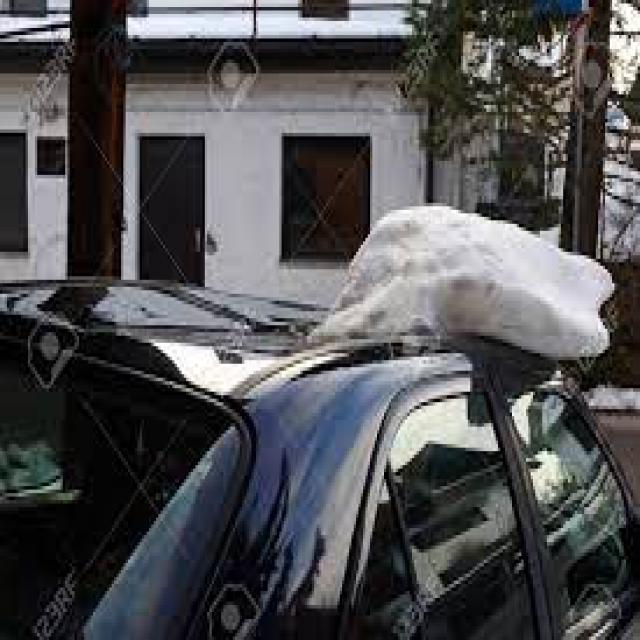roof-dent: (0, 269, 426, 412)
